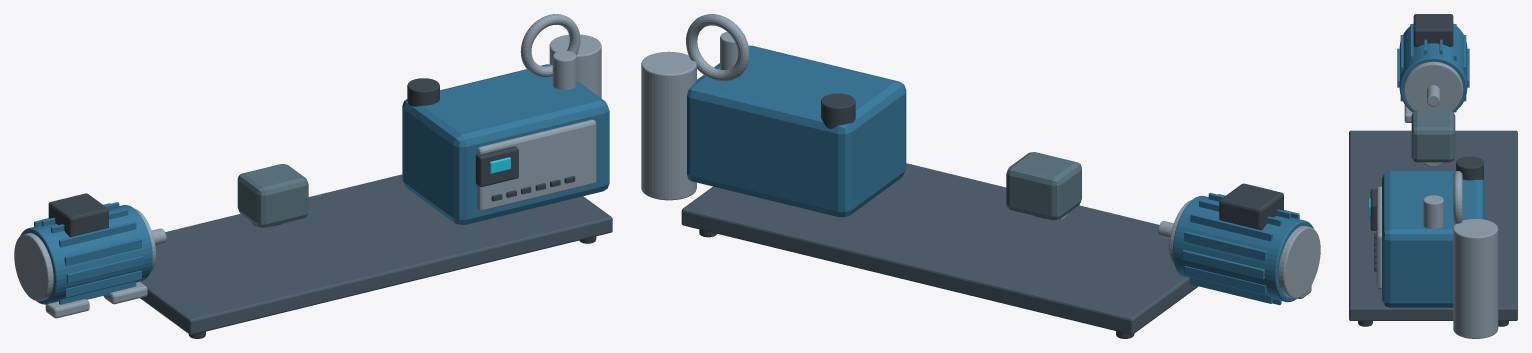
File: air-compressor-lod0.glb
The picture shows the model from 3 angles, left to right: view 1: azimuth 30°, elevation 25°; view 2: azimuth 150°, elevation 25°; view 3: azimuth 270°, elevation 25°; orthographic projection. The views are drawn at different scales.
Visible parts, largest first — view 1: drive_base, compressor_casing, compressor_service_cover, motor, coupling_guard, motor_rear_endcap, motor_terminal_box, oil_separator, compressor_pipe_elbow, compressor_control_panel, compressor_discharge, compressor_inlet_filter (+7 smaller); view 2: drive_base, compressor_casing, oil_separator, motor, coupling_guard, motor_rear_endcap, motor_terminal_box, compressor_pipe_elbow, compressor_inlet_filter, motor_cooling_fin_01, motor_cooling_fin_00, motor_cooling_fin_13 (+3 smaller); view 3: drive_base, compressor_casing, oil_separator, coupling_guard, motor_front_endcap, motor, motor_terminal_box, compressor_discharge, compressor_service_cover, compressor_inlet_filter, compressor_pipe_elbow, compressor_control_panel (+5 smaller).
Part boxes in pixels (x1=…): drive_base: x1=140, y1=174, x2=612, y2=334; compressor_casing: x1=402, y1=64, x2=609, y2=224; compressor_service_cover: x1=477, y1=119, x2=596, y2=211; motor: x1=20, y1=205, x2=152, y2=304; coupling_guard: x1=237, y1=164, x2=308, y2=227; motor_rear_endcap: x1=14, y1=233, x2=53, y2=301; motor_terminal_box: x1=48, y1=193, x2=108, y2=236; oil_separator: x1=549, y1=34, x2=601, y2=98; compressor_pipe_elbow: x1=520, y1=14, x2=580, y2=77; compressor_control_panel: x1=475, y1=146, x2=518, y2=186; compressor_discharge: x1=552, y1=50, x2=576, y2=89; compressor_inlet_filter: x1=407, y1=78, x2=439, y2=106; drive_base: x1=681, y1=163, x2=1198, y2=334; compressor_casing: x1=687, y1=45, x2=906, y2=217; oil_separator: x1=641, y1=51, x2=696, y2=200; motor: x1=1172, y1=195, x2=1313, y2=302; coupling_guard: x1=1006, y1=152, x2=1081, y2=220; motor_rear_endcap: x1=1278, y1=226, x2=1320, y2=298; motor_terminal_box: x1=1219, y1=183, x2=1283, y2=230; compressor_pipe_elbow: x1=686, y1=14, x2=749, y2=81; compressor_inlet_filter: x1=821, y1=93, x2=855, y2=128; motor_cooling_fin_01: x1=1184, y1=231, x2=1266, y2=260; motor_cooling_fin_00: x1=1182, y1=250, x2=1264, y2=279; motor_cooling_fin_13: x1=1184, y1=266, x2=1266, y2=294; drive_base: x1=1349, y1=130, x2=1517, y2=320; compressor_casing: x1=1382, y1=170, x2=1484, y2=307; oil_separator: x1=1453, y1=219, x2=1498, y2=338; coupling_guard: x1=1411, y1=110, x2=1455, y2=162; motor_front_endcap: x1=1403, y1=61, x2=1463, y2=110; motor: x1=1399, y1=23, x2=1467, y2=112; motor_terminal_box: x1=1413, y1=14, x2=1453, y2=46; compressor_discharge: x1=1423, y1=195, x2=1443, y2=229; compressor_service_cover: x1=1376, y1=186, x2=1381, y2=289; compressor_inlet_filter: x1=1456, y1=156, x2=1483, y2=180; compressor_pipe_elbow: x1=1453, y1=171, x2=1462, y2=225; compressor_control_panel: x1=1370, y1=189, x2=1376, y2=230.
Bounding box in the file's own units: 12.58 × 3.7 × 3.6.
